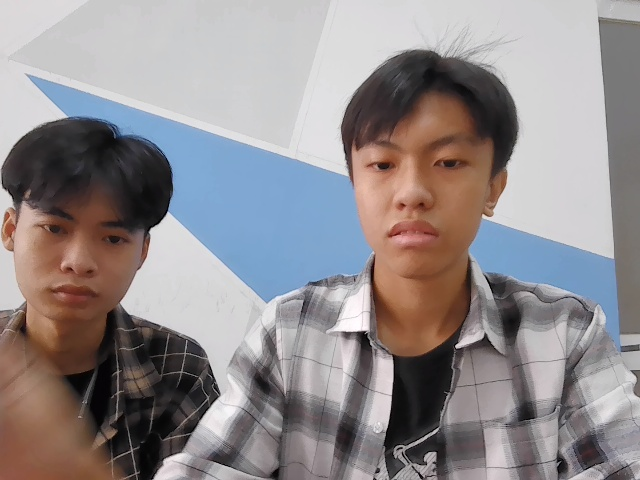human: (333, 54, 521, 288), (1, 123, 178, 321)
